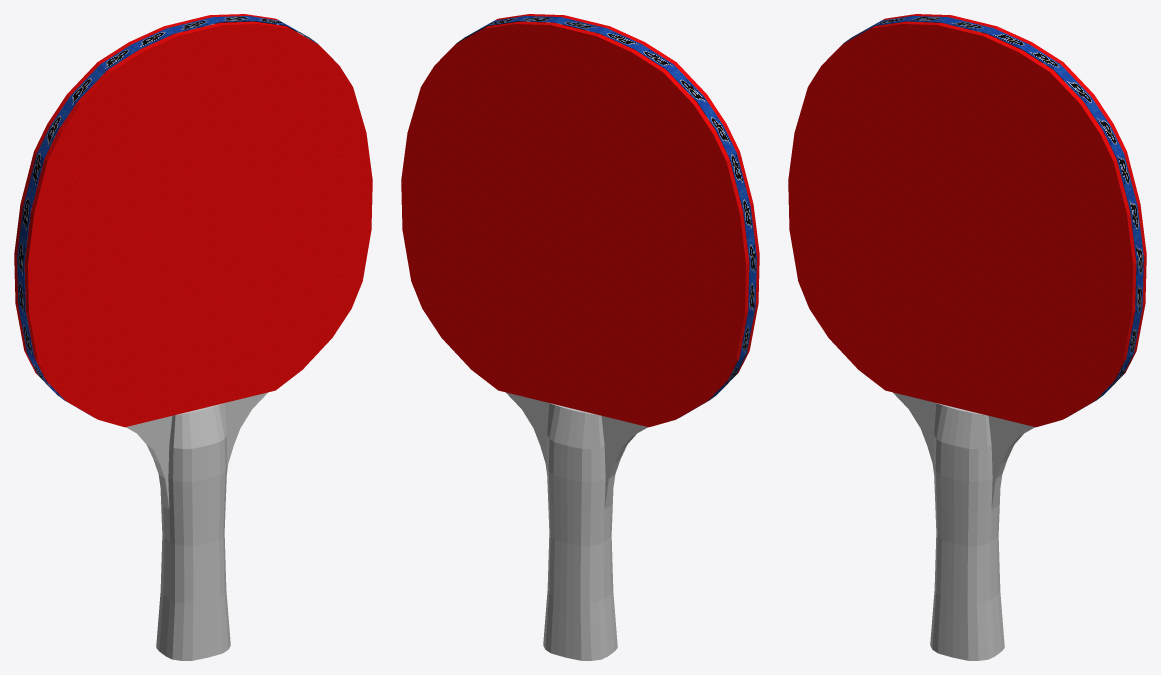
The model's file is Paleta de ping pong.fbx.
3 renders of one model, left to right at view 1: azimuth 30°, elevation 25°; view 2: azimuth 150°, elevation 25°; view 3: azimuth 330°, elevation 25°, orthographic.
Parts seen in each view (by area): view 1: Cube.006, Cube.002, Cube.007, Cube, Cube.005, Cube.004, Cube.003; view 2: Cube.004, Cube.001, Cube.007, Cube, Cube.003, Cube.006, Cube.005; view 3: Cube.006, Cube.002, Cube.007, Cube, Cube.005, Cube.004, Cube.003.
Boxes of the visible parts, bbox=[...] form: Cube.006: bbox=[26, 22, 372, 427]; Cube.002: bbox=[166, 403, 230, 660]; Cube.007: bbox=[17, 16, 318, 417]; Cube: bbox=[126, 392, 267, 656]; Cube.005: bbox=[24, 21, 316, 400]; Cube.004: bbox=[14, 14, 277, 387]; Cube.003: bbox=[16, 15, 277, 373]; Cube.004: bbox=[401, 22, 747, 427]; Cube.001: bbox=[543, 403, 607, 660]; Cube.007: bbox=[455, 16, 756, 417]; Cube: bbox=[506, 392, 647, 656]; Cube.003: bbox=[457, 21, 749, 400]; Cube.006: bbox=[496, 14, 759, 387]; Cube.005: bbox=[496, 15, 757, 373]; Cube.006: bbox=[788, 22, 1134, 427]; Cube.002: bbox=[930, 403, 994, 660]; Cube.007: bbox=[842, 16, 1143, 417]; Cube: bbox=[893, 392, 1034, 656]; Cube.005: bbox=[844, 21, 1136, 400]; Cube.004: bbox=[883, 14, 1146, 387]; Cube.003: bbox=[883, 15, 1144, 373].
Bounding box in the file's own units: 1225 × 2104 × 184.
